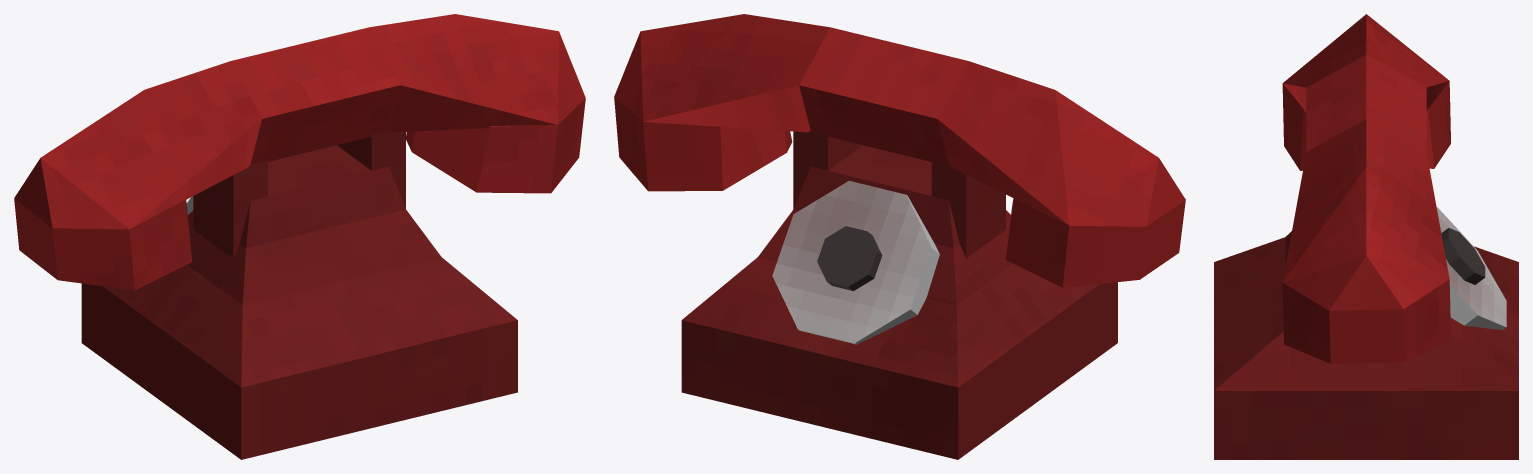
File: clock.fbx
3 views of the same model, side by side, from view 1: azimuth 30°, elevation 25°; view 2: azimuth 150°, elevation 25°; view 3: azimuth 270°, elevation 25° (orthographic). The views are drawn at different scales.
Parts seen in each view (by area): view 1: cuboid, cylinder; view 2: cylinder, cuboid, cylinder_2, cylinder_1; view 3: cylinder, cuboid, cylinder_2, cylinder_1.
Boxes of the visible parts, <box> form: cuboid: <box>81,130,517,459</box>; cylinder: <box>14,14,585,290</box>; cylinder: <box>614,14,1185,287</box>; cuboid: <box>681,130,1117,459</box>; cylinder_2: <box>772,180,939,344</box>; cylinder_1: <box>817,226,882,290</box>; cylinder: <box>1282,14,1450,363</box>; cuboid: <box>1214,231,1518,459</box>; cylinder_2: <box>1436,207,1506,329</box>; cylinder_1: <box>1441,228,1485,284</box>.
Bounding box in the file's own units: 193 × 112 × 100.
Materials: 3 (3 with a texture image).
